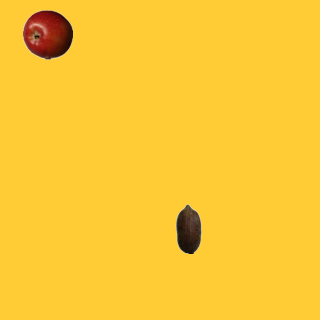Apple Braeburn: (22, 9, 72, 59)
Nut Pecan: (163, 203, 213, 253)
